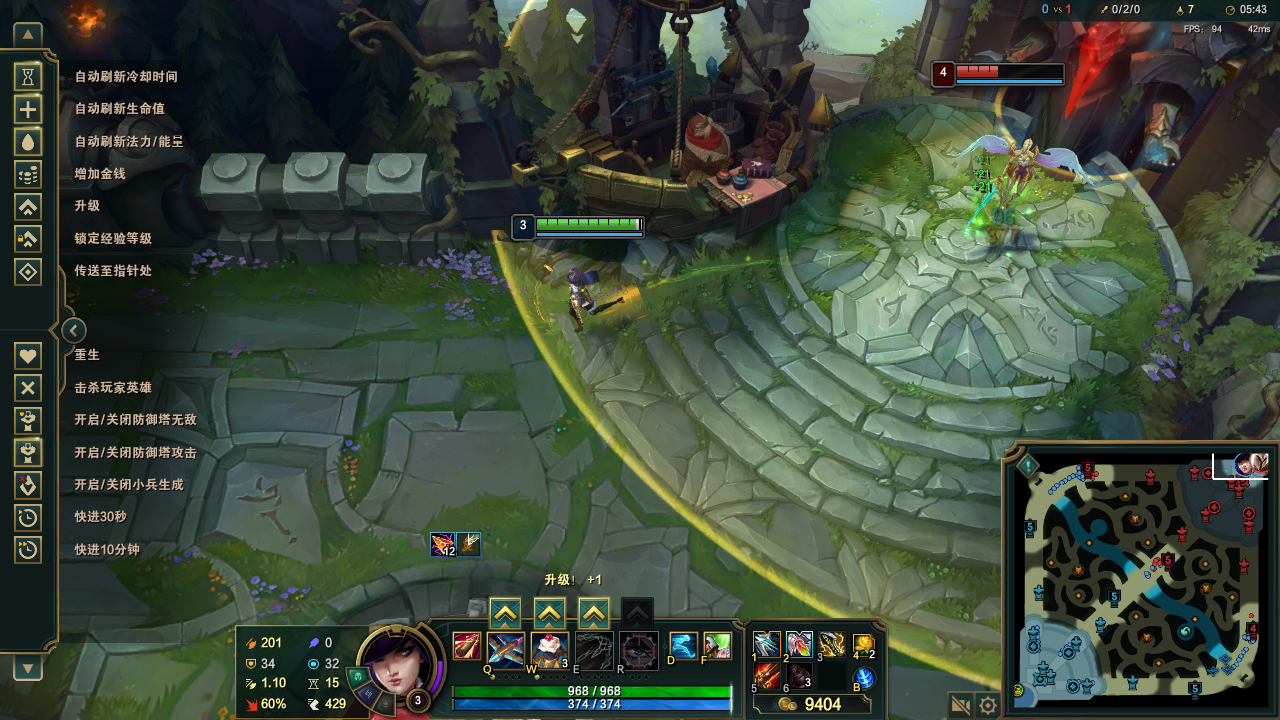DFYX: (951, 63, 1061, 76)
